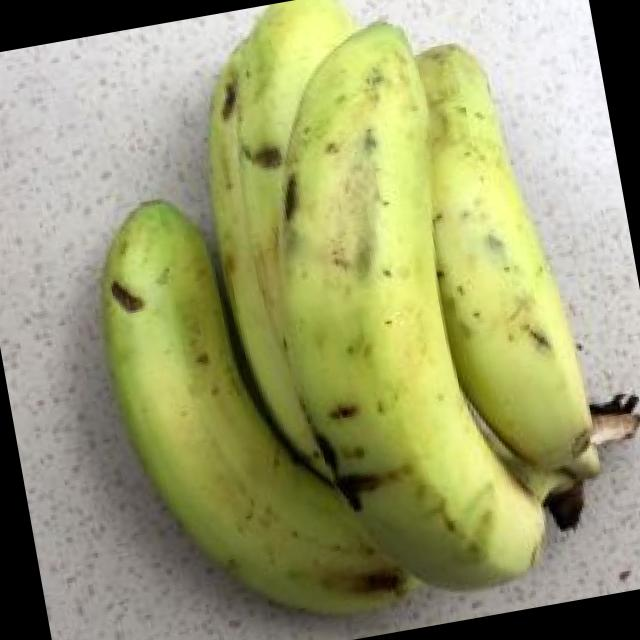banana: (12, 27, 521, 575)
